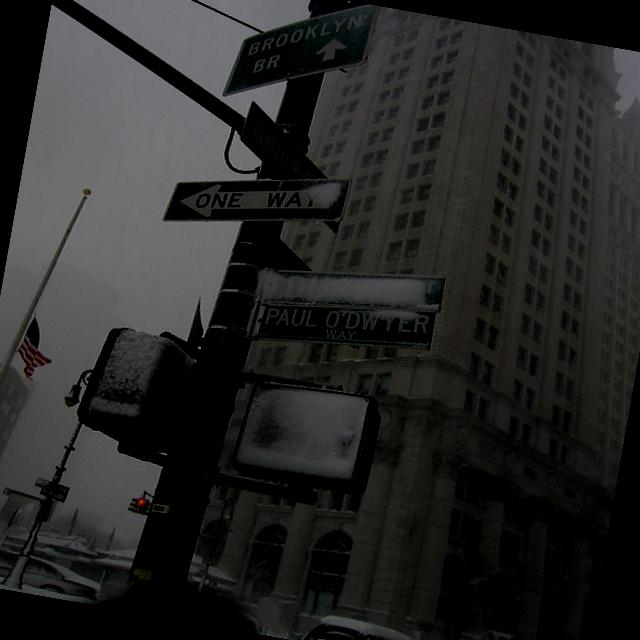Vehicle: (0, 541, 107, 601), (296, 611, 449, 640)
